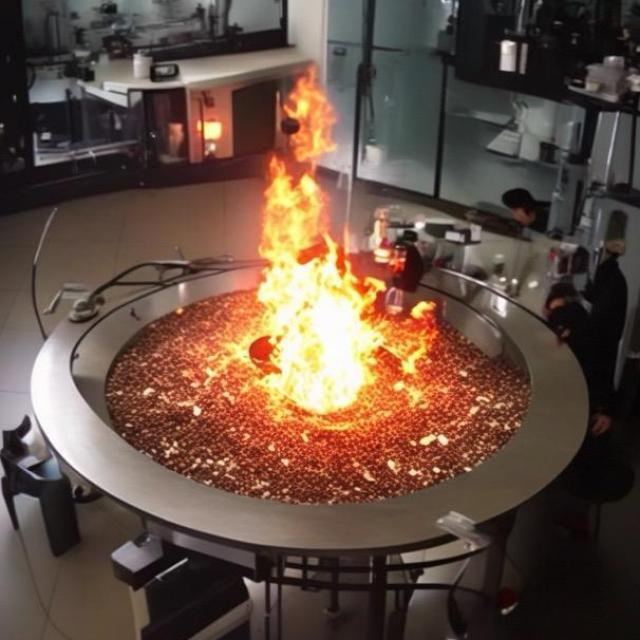smoke: (251, 96, 399, 411)
